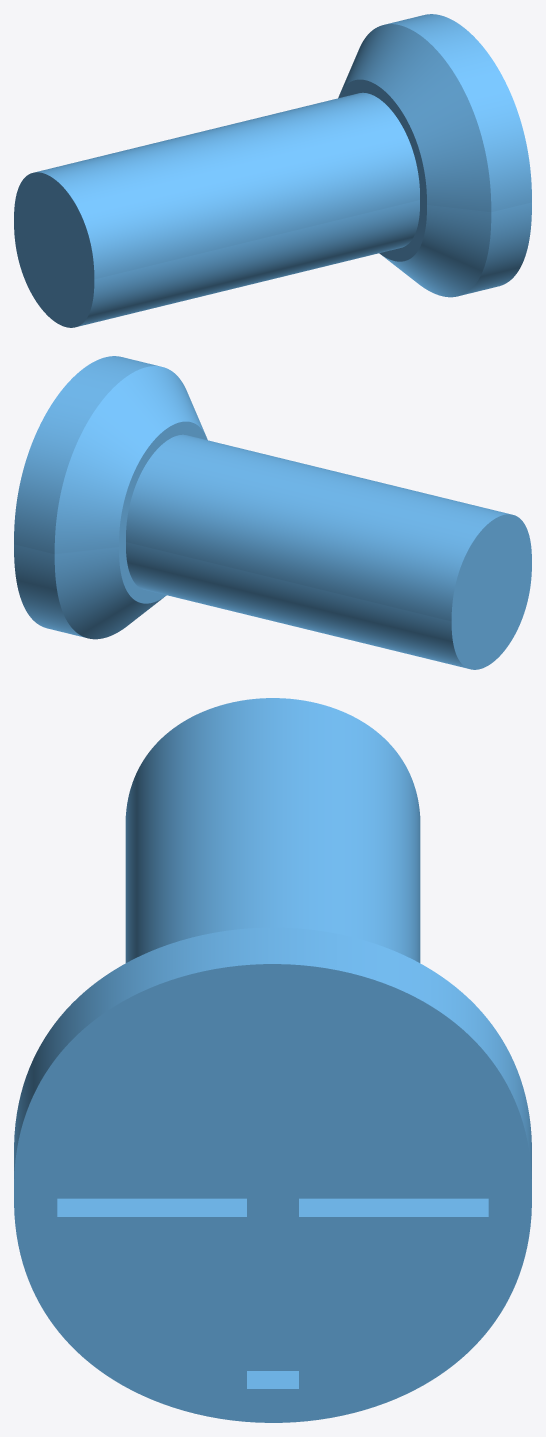
The model's file is sample_01_cond.obj.
The picture shows the model from 3 angles, top to bottom: view 1: azimuth 30°, elevation 25°; view 2: azimuth 150°, elevation 25°; view 3: azimuth 270°, elevation 25°; orthographic projection. The views are drawn at different scales.
Parts seen in each view (by area): view 1: mesh1, mesh2, mesh4, mesh0, mesh6, mesh5, mesh7, mesh3; view 2: mesh1, mesh2, mesh4, mesh0, mesh6, mesh5, mesh7, mesh3; view 3: mesh8, mesh1, mesh10, mesh6, mesh12, mesh16, mesh14.
Part boxes in pixels (<box>): mesh1: <box>36,92,419,279</box>; mesh2: <box>78,200,419,326</box>; mesh4: <box>339,24,491,212</box>; mesh0: <box>14,172,94,327</box>; mesh6: <box>387,14,531,211</box>; mesh5: <box>382,205,491,297</box>; mesh7: <box>461,202,531,295</box>; mesh3: <box>338,79,426,261</box>; mesh1: <box>126,434,509,621</box>; mesh2: <box>126,542,468,668</box>; mesh4: <box>54,366,206,554</box>; mesh0: <box>451,514,531,669</box>; mesh6: <box>14,356,158,553</box>; mesh5: <box>54,547,163,639</box>; mesh7: <box>14,544,84,637</box>; mesh3: <box>119,421,207,603</box>; mesh8: <box>14,964,531,1422</box>; mesh1: <box>125,698,420,962</box>; mesh10: <box>57,998,488,1370</box>; mesh6: <box>14,927,531,1178</box>; mesh12: <box>299,1198,488,1216</box>; mesh16: <box>57,1198,246,1216</box>; mesh14: <box>247,1371,298,1388</box>.
Size of the model in its own units: 0.002 by 0.00117 by 0.0012.
